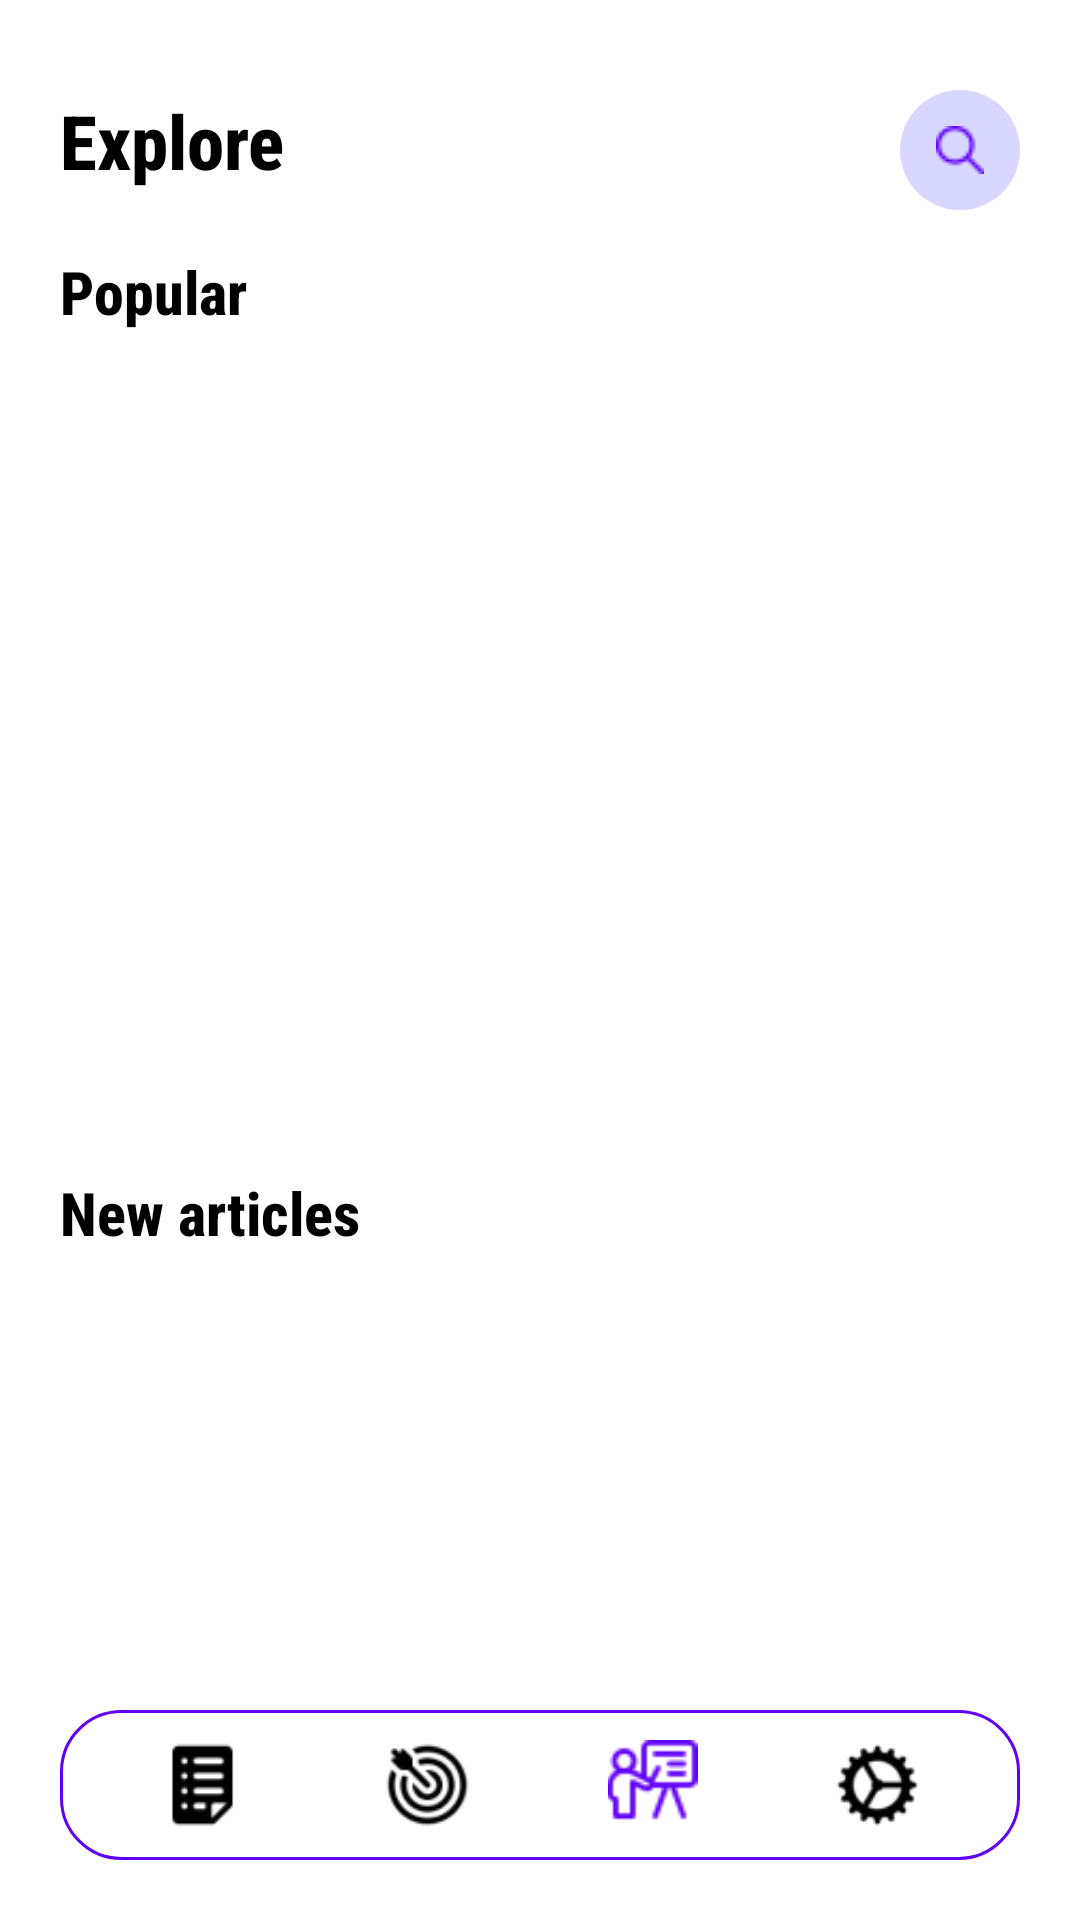

Where icons sit on this 1080px x 1920px app screen, as BBox(x1, y1, x2, y2):
notes: BBox(172, 1744, 233, 1826)
room: BBox(608, 1740, 698, 1820)
search: BBox(936, 126, 984, 174)
setting: BBox(837, 1744, 918, 1826)
